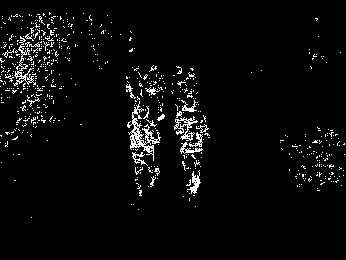person: (174, 96, 211, 201), (125, 105, 161, 198), (142, 63, 167, 122), (124, 62, 144, 118), (169, 64, 188, 111), (184, 66, 201, 99)
